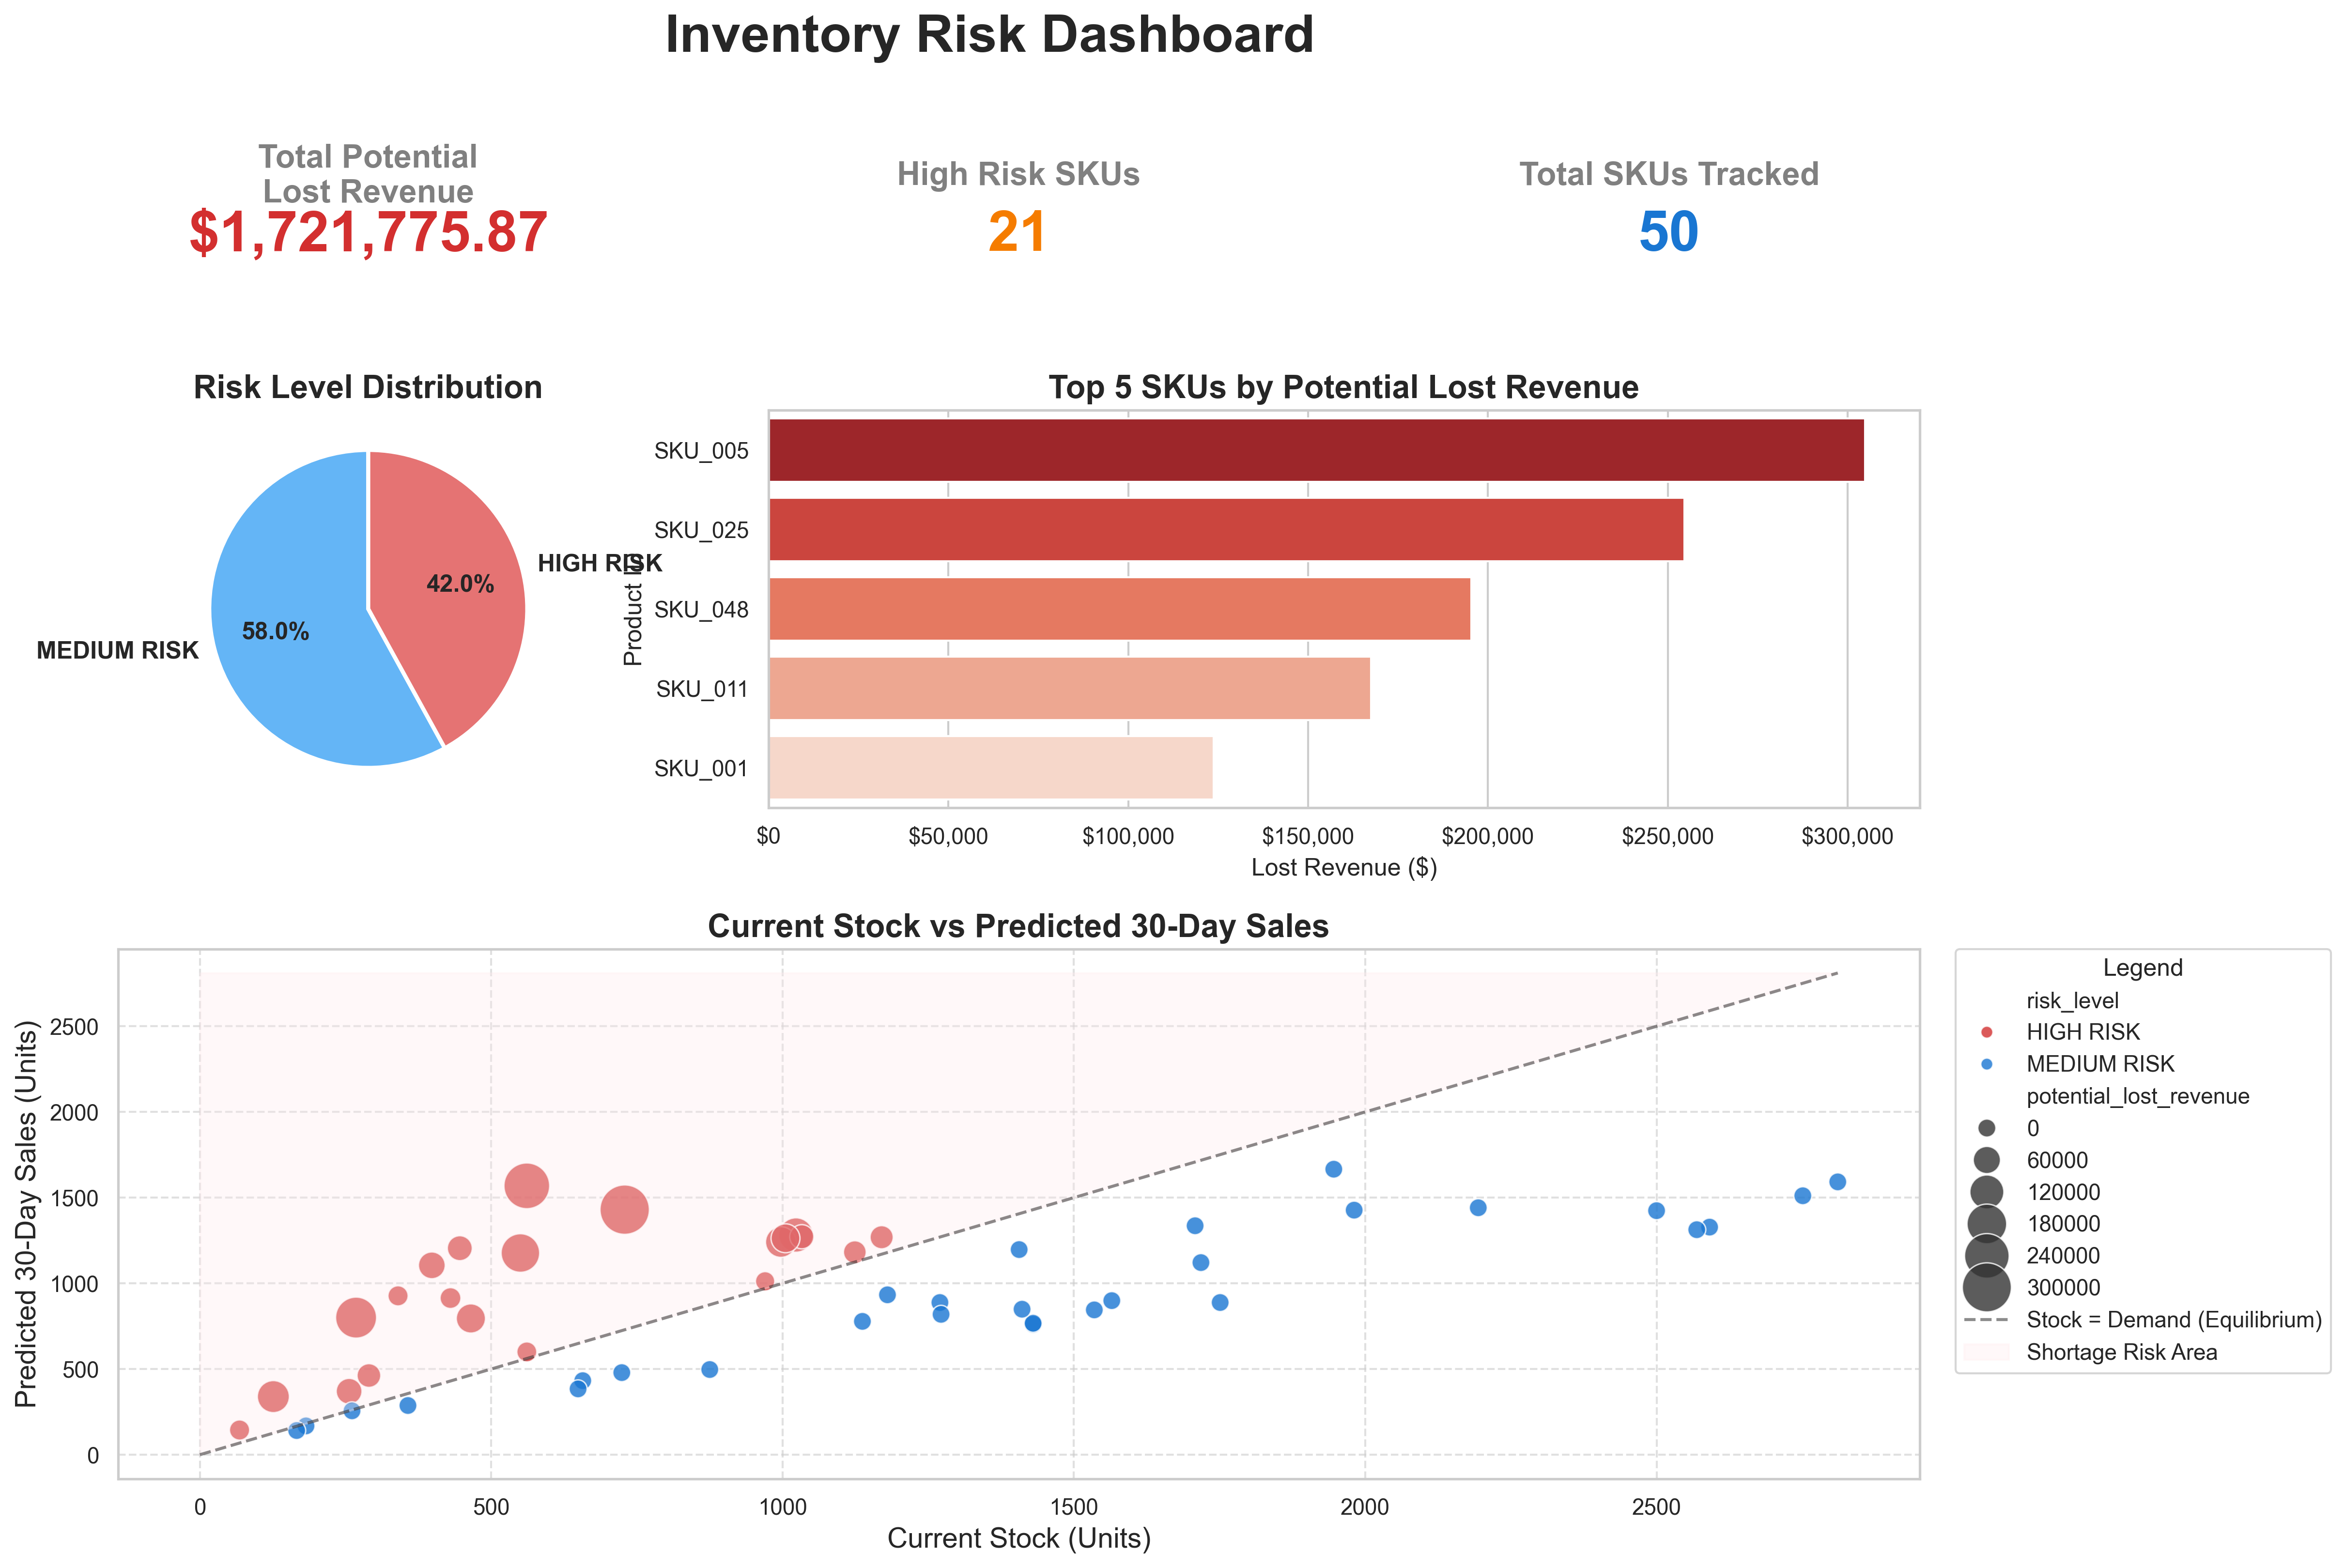

Layout of this report page (visuals, bound fields, positions):
{"tool":"powerbi","page":{"name":"Page 1","canvas":[1280,720],"ordinal":0},"visuals":[{"type":"cardVisual","fields":{"Data":["Sum(inventory_risk_dashboard.potential_lost_revenue)"]},"box":[46.9,51.5,340.7,139.3],"z":0},{"type":"cardVisual","fields":{"Data":["Count(inventory_risk_dashboard.product_id)"]},"box":[719.2,46.9,340.7,143.8],"z":1000},{"type":"cardVisual","fields":{"Data":["Count(inventory_risk_dashboard.product_id)"]},"box":[387.6,46.9,340.7,143.8],"z":2000},{"type":"textbox","box":[387.6,0,487.6,45.4],"z":3000},{"type":"pieChart","fields":{"Category":["inventory_risk_dashboard.risk_level"],"Y":["CountNonNull(inventory_risk_dashboard.product_id)"]},"box":[37.9,190.8,419.4,218],"z":4000},{"type":"clusteredBarChart","fields":{"Category":["inventory_risk_dashboard.product_id"],"Y":["Sum(inventory_risk_dashboard.potential_lost_revenue)"]},"box":[487.6,175.6,751,249.8],"z":5000},{"type":"scatterChart","fields":{"Category":["inventory_risk_dashboard.product_id"],"X":["Sum(inventory_risk_dashboard.current_stock)"],"Y":["Sum(inventory_risk_dashboard.predicted_30day_sales)"],"Series":["inventory_risk_dashboard.risk_level"]},"box":[37.9,440.6,1022.1,268],"z":6000}]}

Visuals, with their boxes on the page's 1280x720 design canvas (x1, y1, x2, y2). These are canvas units, not pixel positions in the 2345x1568 screenshot, which may show the page scaled, cropped or inside an application window:
cardVisual - Sum(inventory_risk_dashboard.potential_lost_revenue): [47,52,388,191]
cardVisual - Count(inventory_risk_dashboard.product_id): [719,47,1060,191]
cardVisual - Count(inventory_risk_dashboard.product_id): [388,47,728,191]
textbox: [388,0,875,45]
pieChart - inventory_risk_dashboard.risk_level x CountNonNull(inventory_risk_dashboard.product_id): [38,191,457,409]
clusteredBarChart - inventory_risk_dashboard.product_id x Sum(inventory_risk_dashboard.potential_lost_revenue): [488,176,1239,425]
scatterChart - inventory_risk_dashboard.product_id x Sum(inventory_risk_dashboard.current_stock): [38,441,1060,709]
